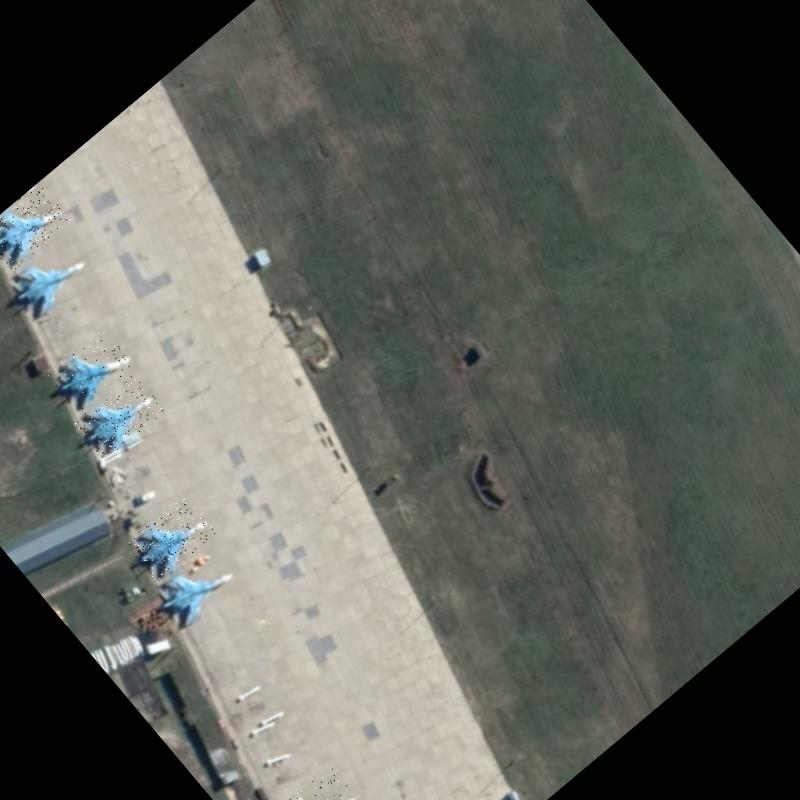A19: (72, 372, 166, 462), (2, 234, 95, 324), (123, 492, 216, 582), (148, 542, 241, 632), (46, 325, 138, 413), (0, 181, 72, 272)
A20: (270, 764, 370, 800)
